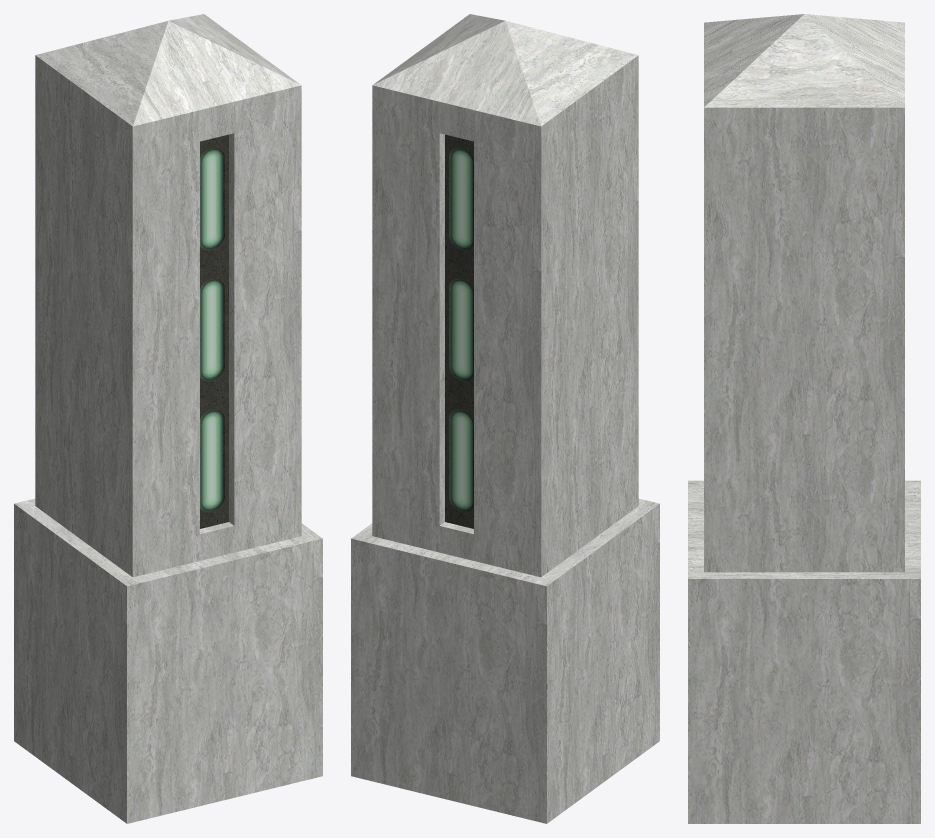
File: thm_corl_imprv_column_s01_l0.fbx
3 views of the same model, side by side, from view 1: azimuth 30°, elevation 25°; view 2: azimuth 150°, elevation 25°; view 3: azimuth 270°, elevation 25° (orthographic). The views are drawn at different scales.
Visible parts, largest first — view 1: mesh_node; view 2: mesh_node; view 3: mesh_node.
Part boxes in pixels (x1,y1,x2,y2): mesh_node: (14, 14, 322, 823); mesh_node: (351, 14, 659, 823); mesh_node: (688, 14, 920, 823).
Bounding box in the file's own units: 1.56 × 5.62 × 1.56.
Materials: 2 (2 with a texture image).
